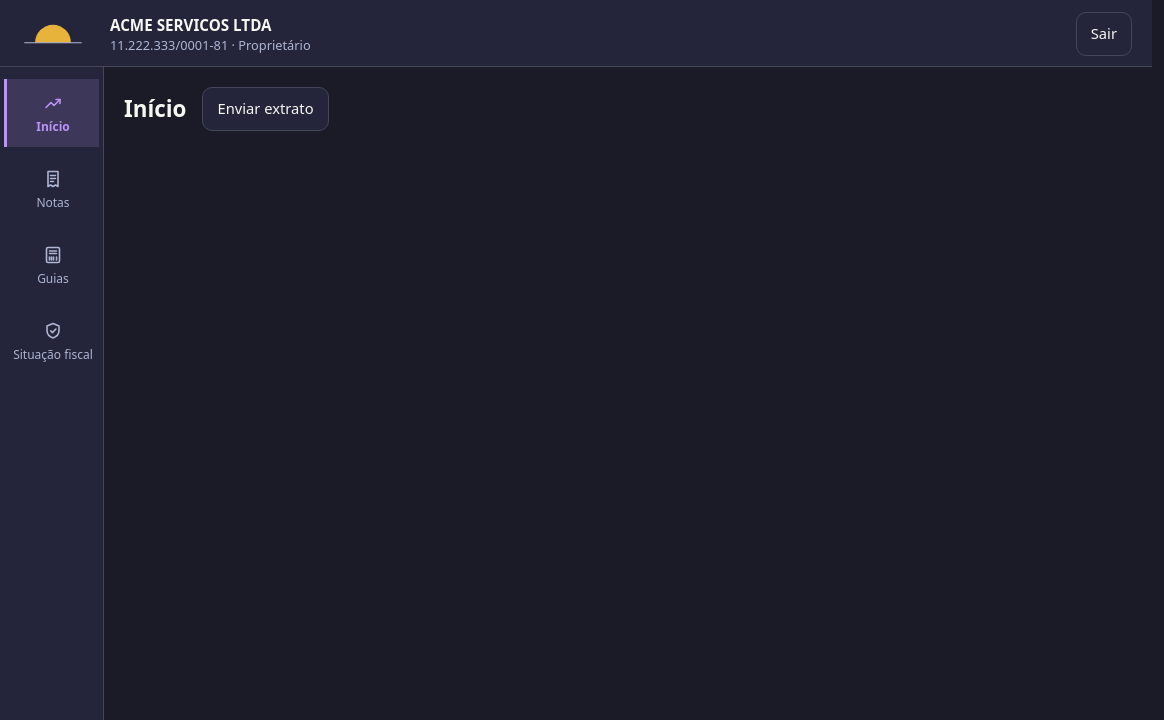
Test: a corrente inteira: da seleção ao arquivo no disco › ⚠⚠ e a barra só aparece COM seleção — barra permanente com zero é ruído fixo
Click the link "Notas". click: (53, 190)
box: [36,168,70,210]
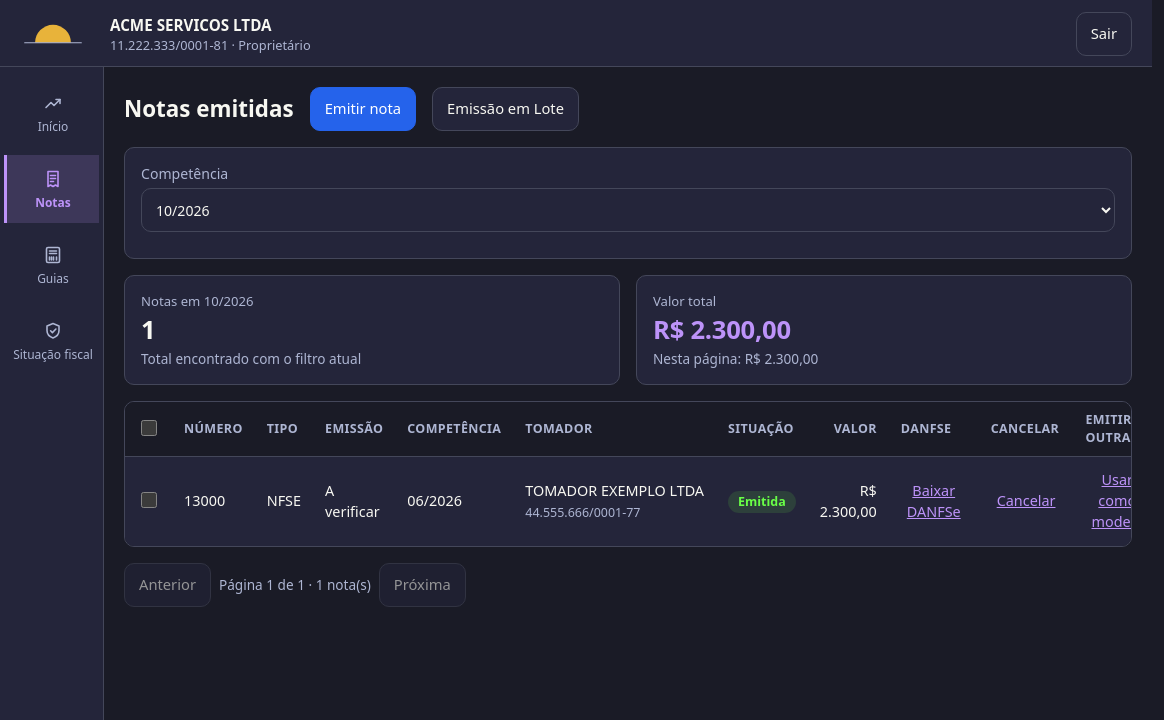
Now the heading "Notas emitidas" is shown, box [124,94,294,124]
Click the checkbox named "nota 13000". click: (149, 500)
box: [141,492,157,508]
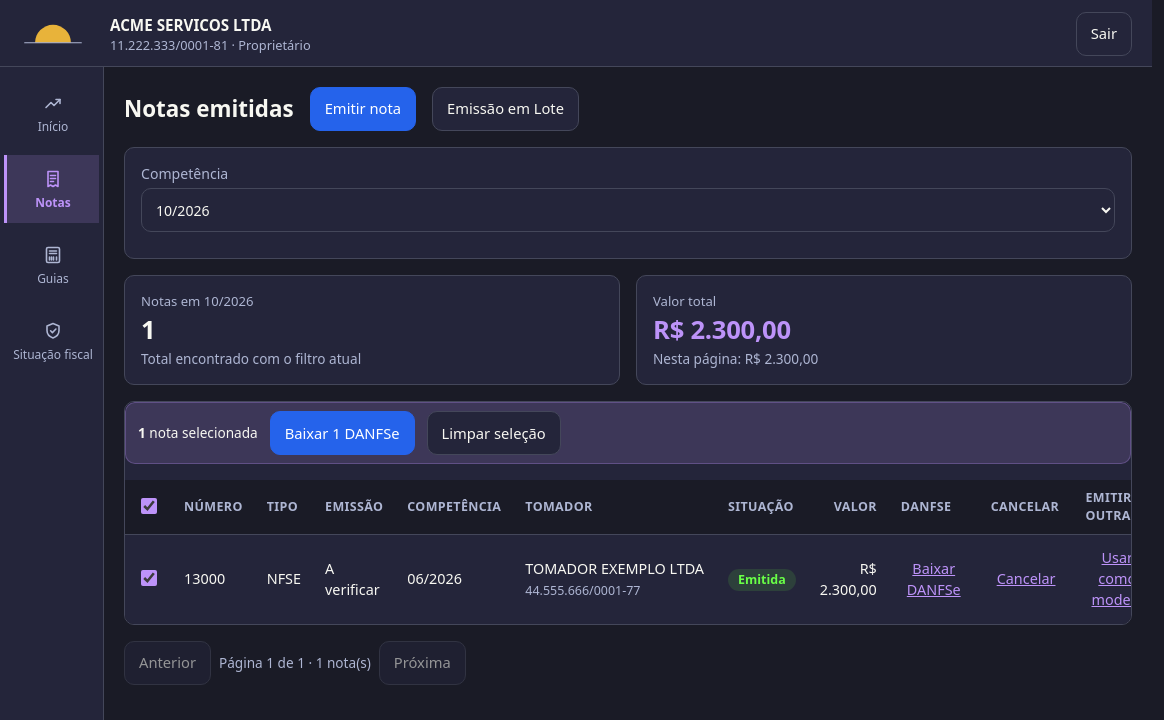
Now the element named "notas selecionadas" is shown, box [125,402,1131,464]
